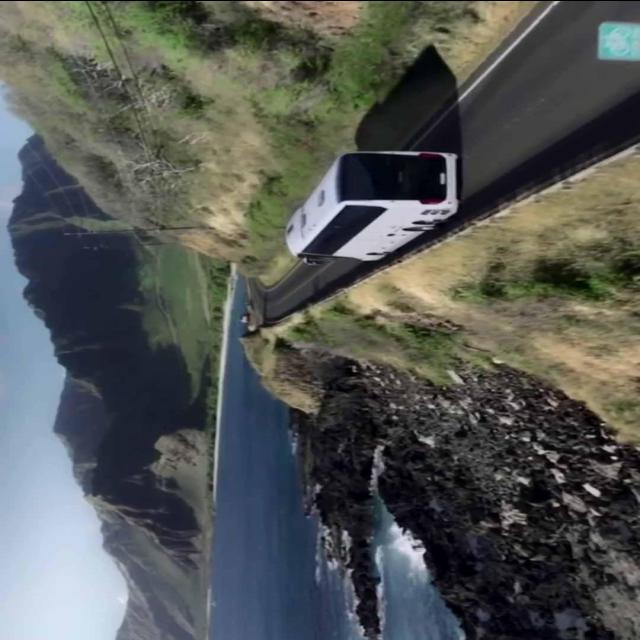bus: (254, 136, 491, 285)
